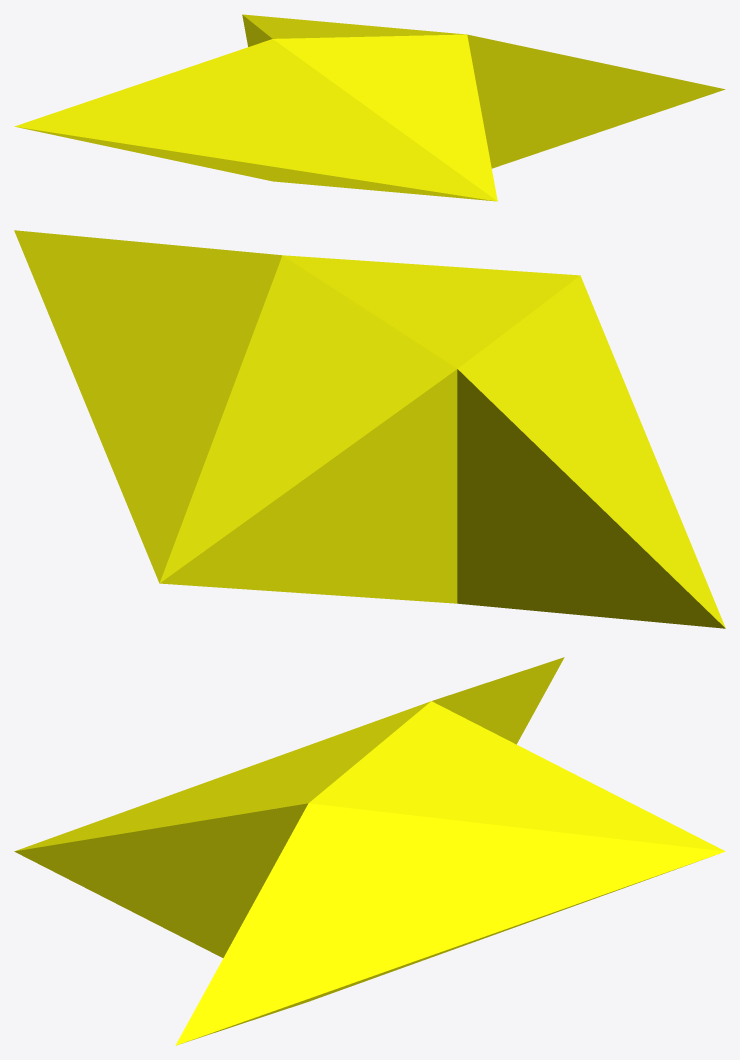
The picture shows the model from 3 angles, top to bottom: view 1: azimuth 30°, elevation 25°; view 2: azimuth 150°, elevation 25°; view 3: azimuth 270°, elevation 25°; orthographic projection. The views are drawn at different scales.
Visible parts, largest first — view 1: Model; view 2: Model; view 3: Model.
Boxes of the visible parts, x1=… form: Model: x1=14, y1=14, x2=725, y2=201; Model: x1=14, y1=230, x2=725, y2=628; Model: x1=14, y1=657, x2=725, y2=1045.
Bounding box in the file's own units: 3.19 × 0.76 × 2.47.
